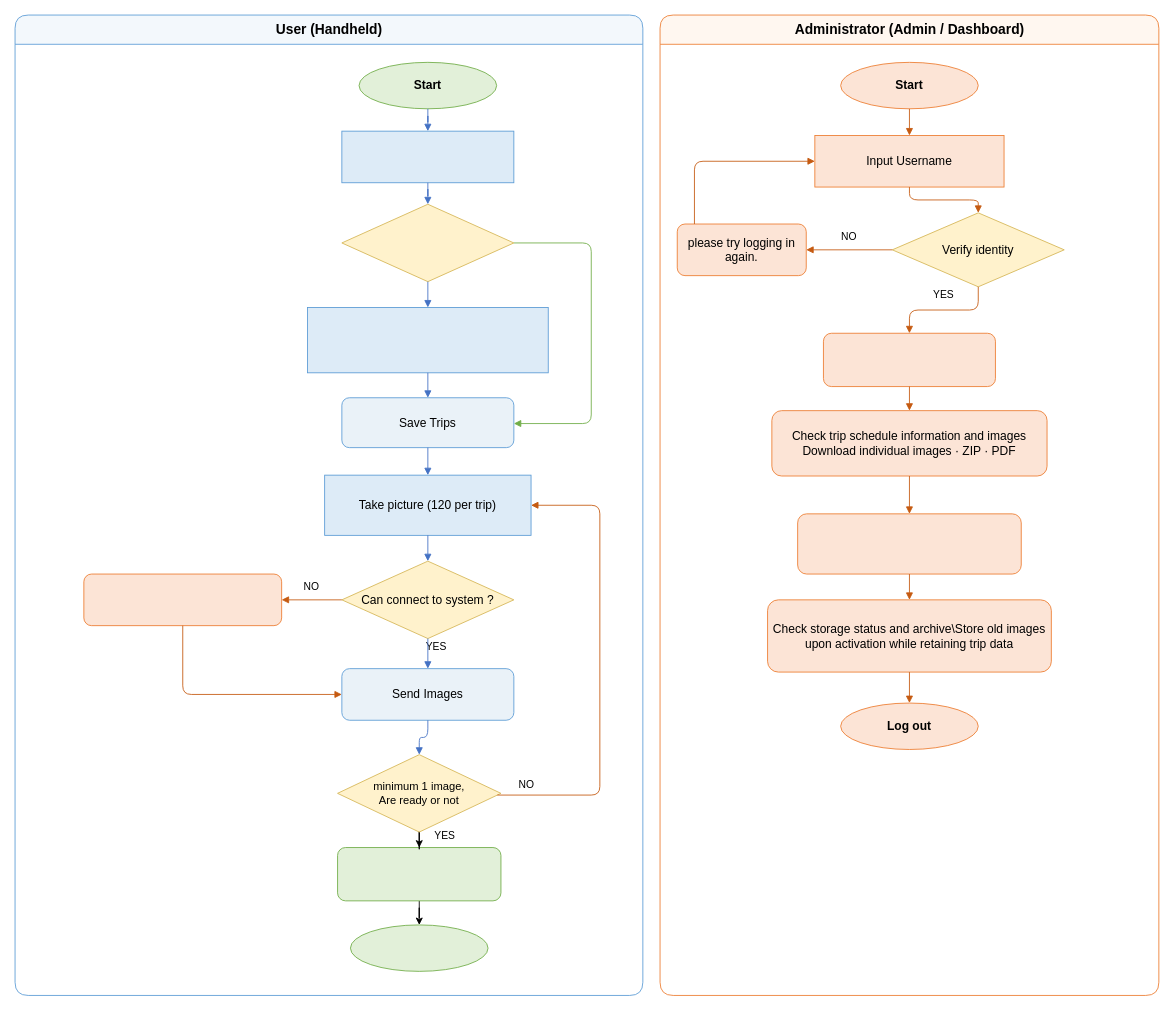
Image size: 1174x1011. Some labels were removed from this diagram. Here are the shapes that lost their labels. From the top down, the centre of each, then its label:
At point 427,156: "Insert Username".
At point 427,242: "Start new trip, or Use undone trip".
At point 427,340: "Input Plate No., Type, and Shipment No.".
At point 909,359: "Open the Dashboard, Search for and select a Trip".
At point 909,543: "Manage Store Add · Edit · Enable/Disable".
At point 182,599: "Queue images, Resend when connected".
At point 419,874: "Confirm trip,".
At point 419,947: "Start Over".
